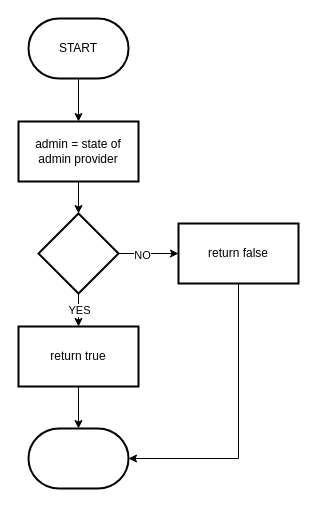
Image size: 316x506. Some labels were removed from this diagram. Each missing label, with the centre of its shape:
"END" belongs at pixel 78 458.
"is admin?" belongs at pixel 78 253.
